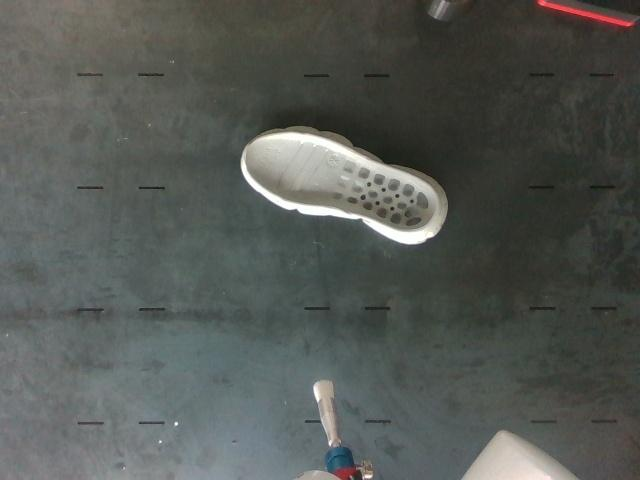shoes: (244, 132, 437, 232)
